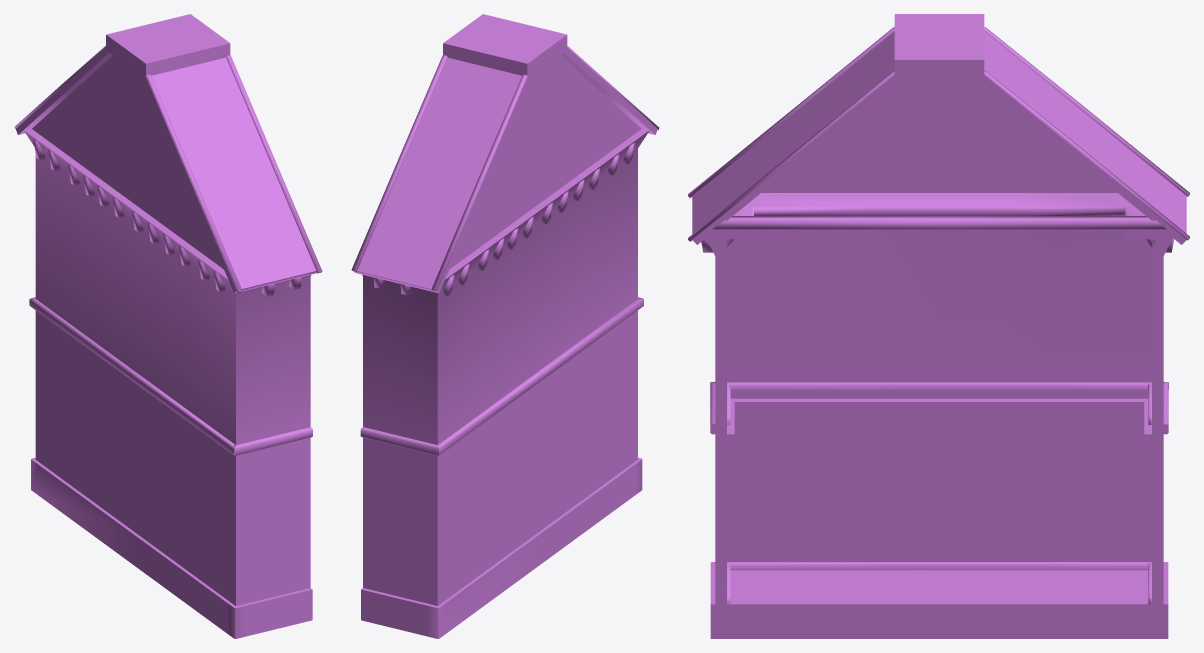
Rendered from back_building.fbx.
3 views of the same model, side by side, from view 1: azimuth 30°, elevation 25°; view 2: azimuth 150°, elevation 25°; view 3: azimuth 270°, elevation 25° (orthographic). The views are drawn at different scales.
Visible parts, largest first — view 1: BrickHouse_End_A.003; view 2: BrickHouse_End_A.003; view 3: BrickHouse_End_A.003.
Part boxes in pixels (bbox=[...]): BrickHouse_End_A.003: bbox=[14, 14, 322, 638]; BrickHouse_End_A.003: bbox=[351, 14, 659, 638]; BrickHouse_End_A.003: bbox=[688, 14, 1189, 638].
Size of the model in its own units: 282 by 1652 by 1298.
